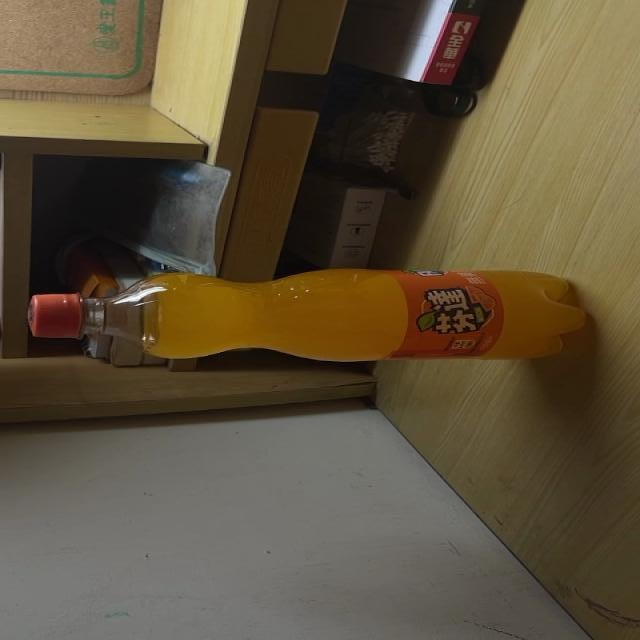Fanta: (29, 270, 588, 361)
